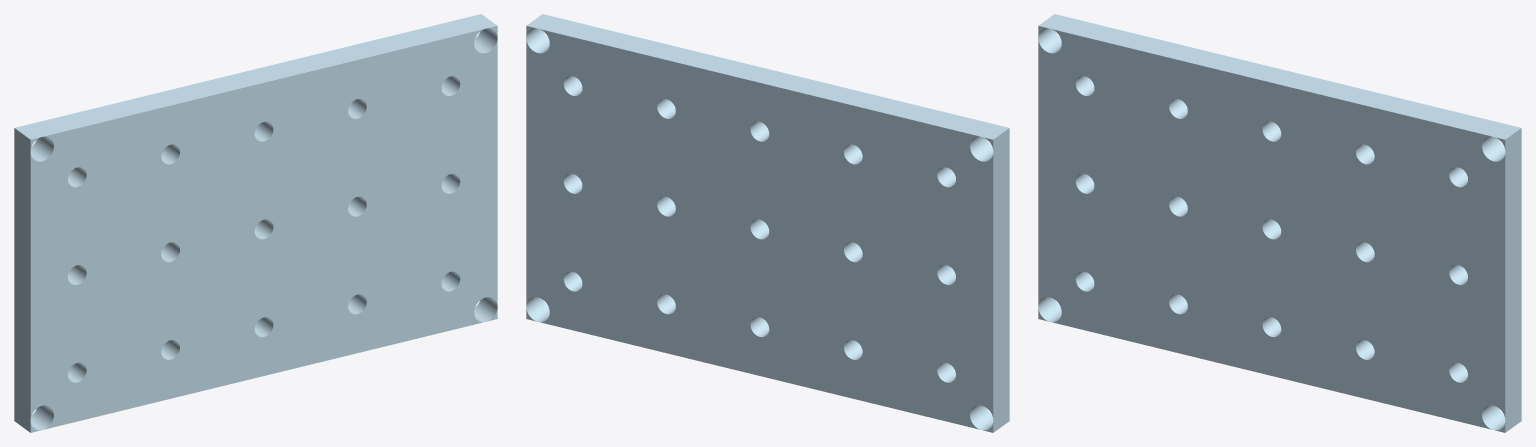
3 renders of one model, left to right at view 1: azimuth 30°, elevation 25°; view 2: azimuth 150°, elevation 25°; view 3: azimuth 330°, elevation 25°, orthographic.
Parts seen in each view (by area): view 1: Part 1; view 2: Part 1; view 3: Part 1.
Part boxes in pixels (x1,y1,x2,y2): Part 1: (14,17,497,429); Part 1: (526,17,1009,429); Part 1: (1038,17,1521,429).
Size of the model in its own units: 0.2 by 0.12 by 0.012.
